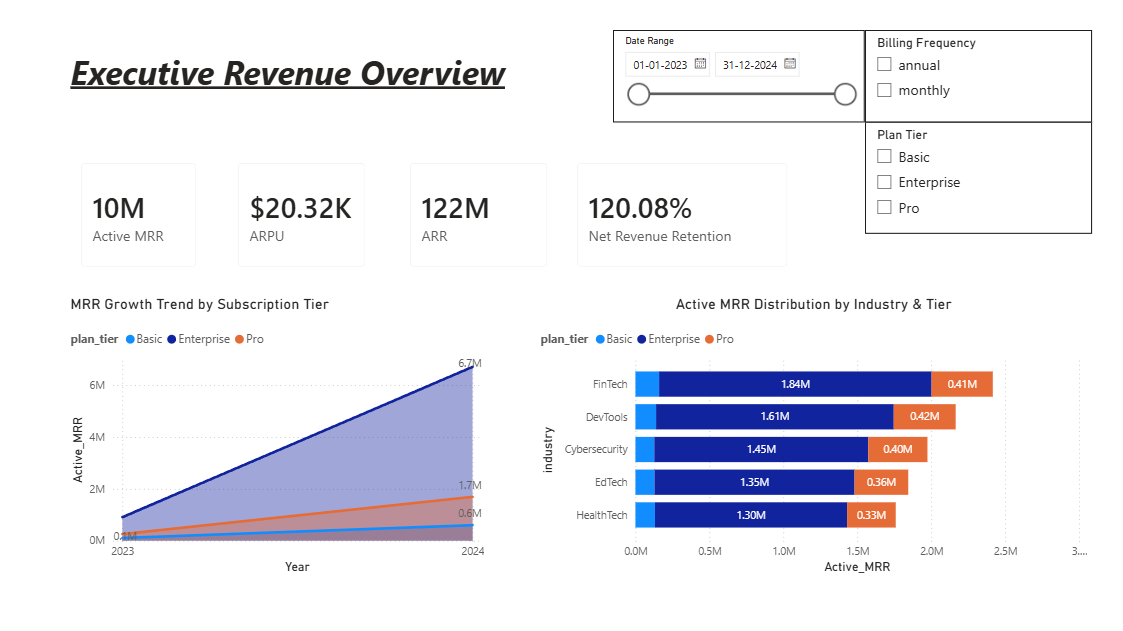

The page's visual inventory and layout, read from the dashboard file:
{"tool":"powerbi","page":{"name":"Executive Revenue Overview","canvas":[1280,720],"ordinal":0},"visuals":[{"type":"cardVisual","fields":{"Data":["_Measures.Active_MRR"]},"box":[76.2,168.8,165,152.5],"z":0},{"type":"cardVisual","fields":{"Data":["_Measures.Annual_Recurring_Revenue"]},"box":[450,168.8,190,152.5],"z":1000},{"type":"cardVisual","fields":{"Data":["_Measures.NRR"]},"box":[640,168.8,273.8,152.5],"z":2000},{"type":"cardVisual","fields":{"Data":["_Measures.Average_Revenue_Per_User"]},"box":[255,168.8,178.8,152.5],"z":3000},{"type":"areaChart","title":"MRR Growth Trend by Subscription Tier","fields":{"Category":["Dim_Date.Date.Variation.Date Hierarchy.Year","Dim_Date.Date.Variation.Date Hierarchy.Quarter","Dim_Date.Date.Variation.Date Hierarchy.Month","Dim_Date.Date.Variation.Date Hierarchy.Day"],"Y":["_Measures.Active_MRR"],"Series":["ravenstack_subscriptions.plan_tier"]},"box":[76.2,336.2,480,322.5],"z":4000},{"type":"barChart","title":"Active MRR Distribution by Industry & Tier","fields":{"Category":["ravenstack_accounts.industry"],"Y":["_Measures.Active_MRR"],"Series":["ravenstack_subscriptions.plan_tier"]},"box":[610,336.2,631.2,322.5],"z":5000},{"type":"slicer","fields":{"Values":["Dim_Date.Date"]},"box":[697.5,35,286.2,105],"z":6000},{"type":"slicer","fields":{"Values":["ravenstack_subscriptions.plan_tier"]},"box":[983.8,140,257.8,126.7],"z":7000},{"type":"slicer","fields":{"Values":["ravenstack_subscriptions.billing_frequency"]},"box":[983.8,35,257.5,105],"z":8000},{"type":"textbox","box":[76.2,52.5,563.8,87.5],"z":9000}]}

Visuals, with their boxes in screenshot pixels (x1, y1, x2, y2), scaled from the page's 1280x720 canvas onto the 1123x631 screenshot:
cardVisual - _Measures.Active_MRR: 67, 148, 212, 282
cardVisual - _Measures.Annual_Recurring_Revenue: 395, 148, 562, 282
cardVisual - _Measures.NRR: 562, 148, 802, 282
cardVisual - _Measures.Average_Revenue_Per_User: 224, 148, 381, 282
"MRR Growth Trend by Subscription Tier" areaChart: 67, 295, 488, 577
"Active MRR Distribution by Industry & Tier" barChart: 535, 295, 1089, 577
slicer - Dim_Date.Date: 612, 31, 863, 123
slicer - ravenstack_subscriptions.plan_tier: 863, 123, 1089, 234
slicer - ravenstack_subscriptions.billing_frequency: 863, 31, 1089, 123
textbox: 67, 46, 562, 123
